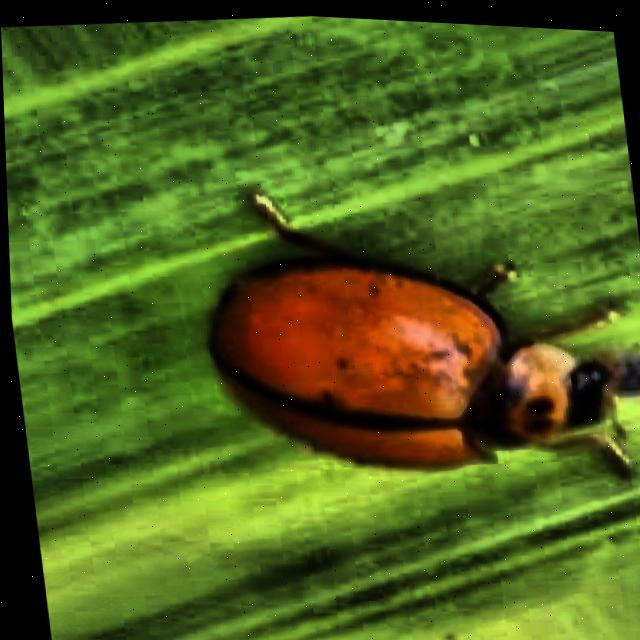Ladybug: (108, 116, 640, 556)
